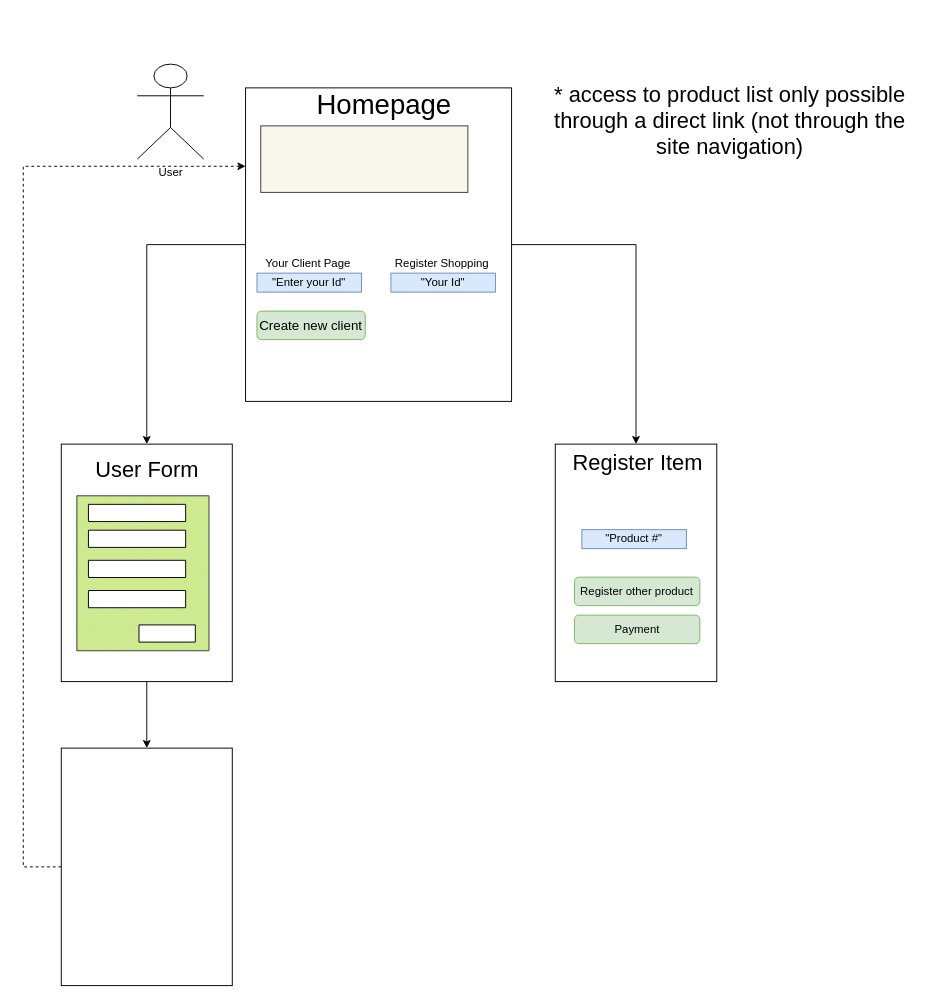
Some shapes in this 930 by 1002 pixel diagram are drawn without their labels. The shapes that lost their labels are listed below. From the top down, each one's box as (x1, y1, x2, y2) in pixels, then its label:
(260, 125, 468, 192): Description Description of our project
(138, 624, 195, 642): Create
(60, 747, 232, 986): User Details
